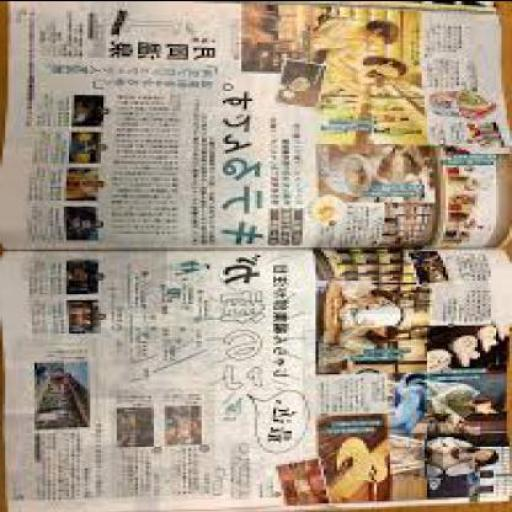paper: (10, 0, 512, 511), (2, 251, 512, 511), (2, 1, 511, 251)
